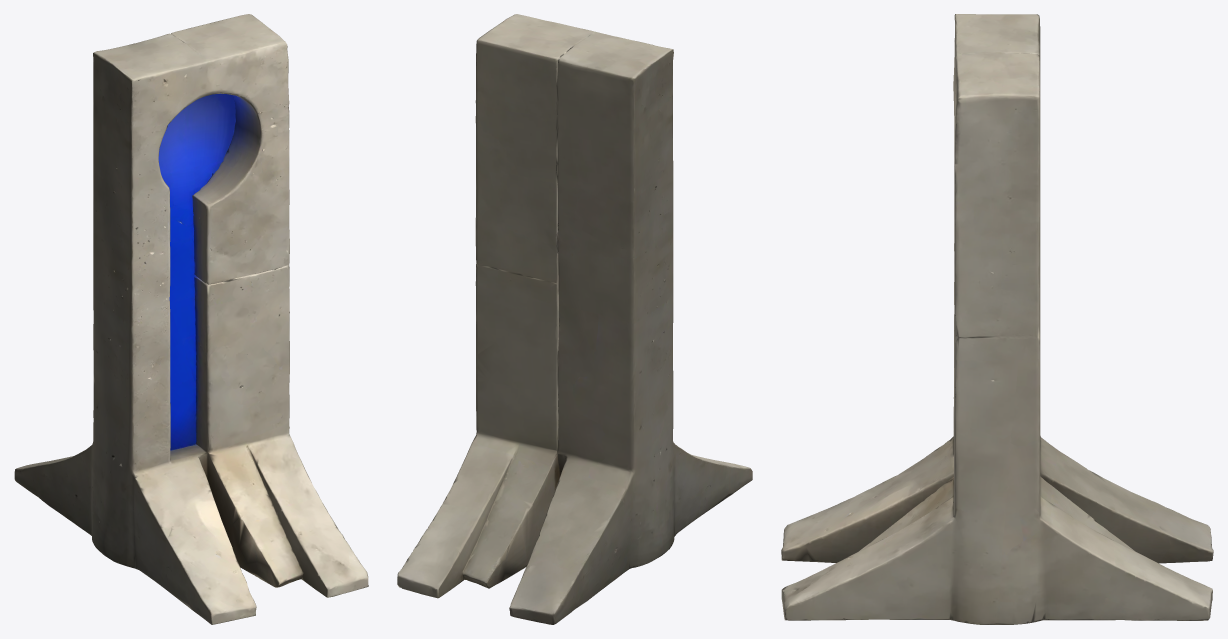
File: light-well.glb
3 renders of one model, left to right at view 1: azimuth 30°, elevation 25°; view 2: azimuth 150°, elevation 25°; view 3: azimuth 270°, elevation 25°, orthographic. The views are drawn at different scales.
Bounding box in the file's own units: 0.3652 × 0.9795 × 0.7287.
Materials: 1 (1 with a texture image).
